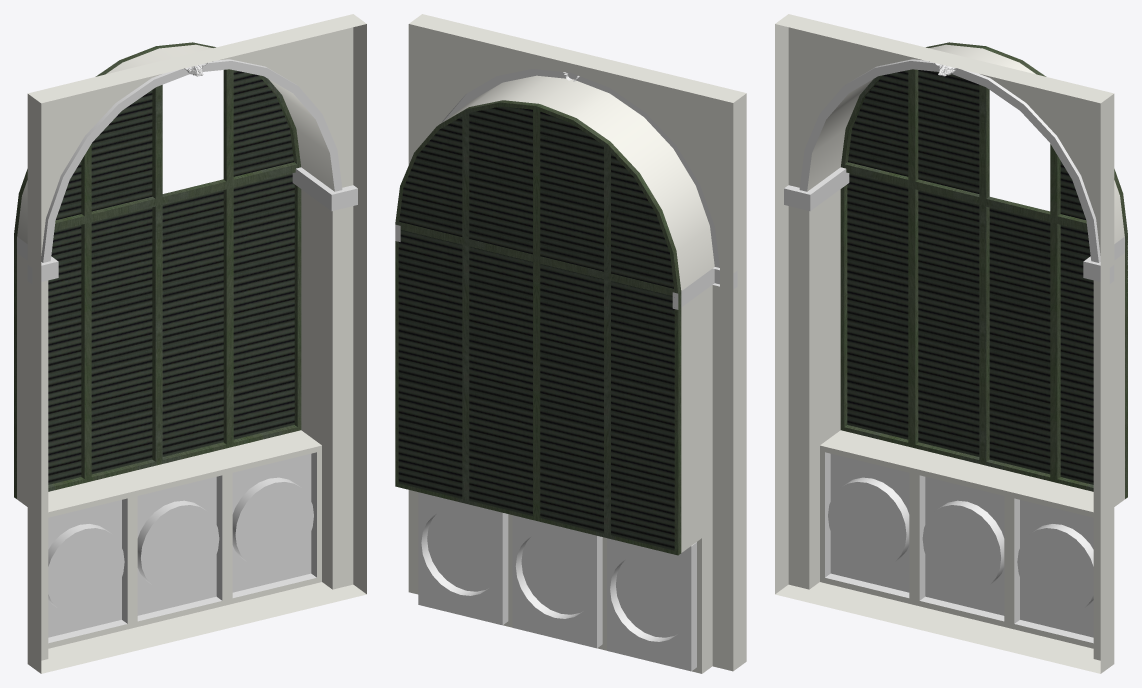
Rendered from window_floor2_side1.glb.
3 renders of one model, left to right at view 1: azimuth 30°, elevation 25°; view 2: azimuth 150°, elevation 25°; view 3: azimuth 330°, elevation 25°, orthographic.
Parts seen in each view (by area): view 1: 3DGeom-1, 3DGeom-2, 3DGeom-10.001, 3DGeom-10, 3DGeom-11.001, 3DGeom-11; view 2: 3DGeom-1, 3DGeom-10.001, 3DGeom-10, 3DGeom-2, 3DGeom-11, 3DGeom-11.001; view 3: 3DGeom-1, 3DGeom-10, 3DGeom-2, 3DGeom-10.001, 3DGeom-11, 3DGeom-11.001.
Boxes of the visible parts, x1,y1,x2,y2 form: 3DGeom-1: (17, 14, 366, 673); 3DGeom-2: (17, 59, 357, 643); 3DGeom-10.001: (162, 70, 294, 456); 3DGeom-10: (48, 90, 152, 484); 3DGeom-11.001: (156, 42, 301, 464); 3DGeom-11: (14, 46, 159, 498); 3DGeom-1: (408, 14, 746, 673); 3DGeom-10.001: (398, 106, 532, 515); 3DGeom-10: (540, 111, 674, 550); 3DGeom-2: (395, 69, 737, 671); 3DGeom-11: (536, 104, 681, 555); 3DGeom-11.001: (395, 100, 538, 520); 3DGeom-1: (775, 14, 1127, 673); 3DGeom-10: (847, 70, 979, 456); 3DGeom-2: (784, 59, 1127, 643); 3DGeom-10.001: (989, 161, 1093, 484); 3DGeom-11: (840, 42, 985, 464); 3DGeom-11.001: (982, 46, 1127, 498).
Bounding box in the file's own units: 1.83 × 3.07 × 0.4688.
4 materials, 2 textured.
